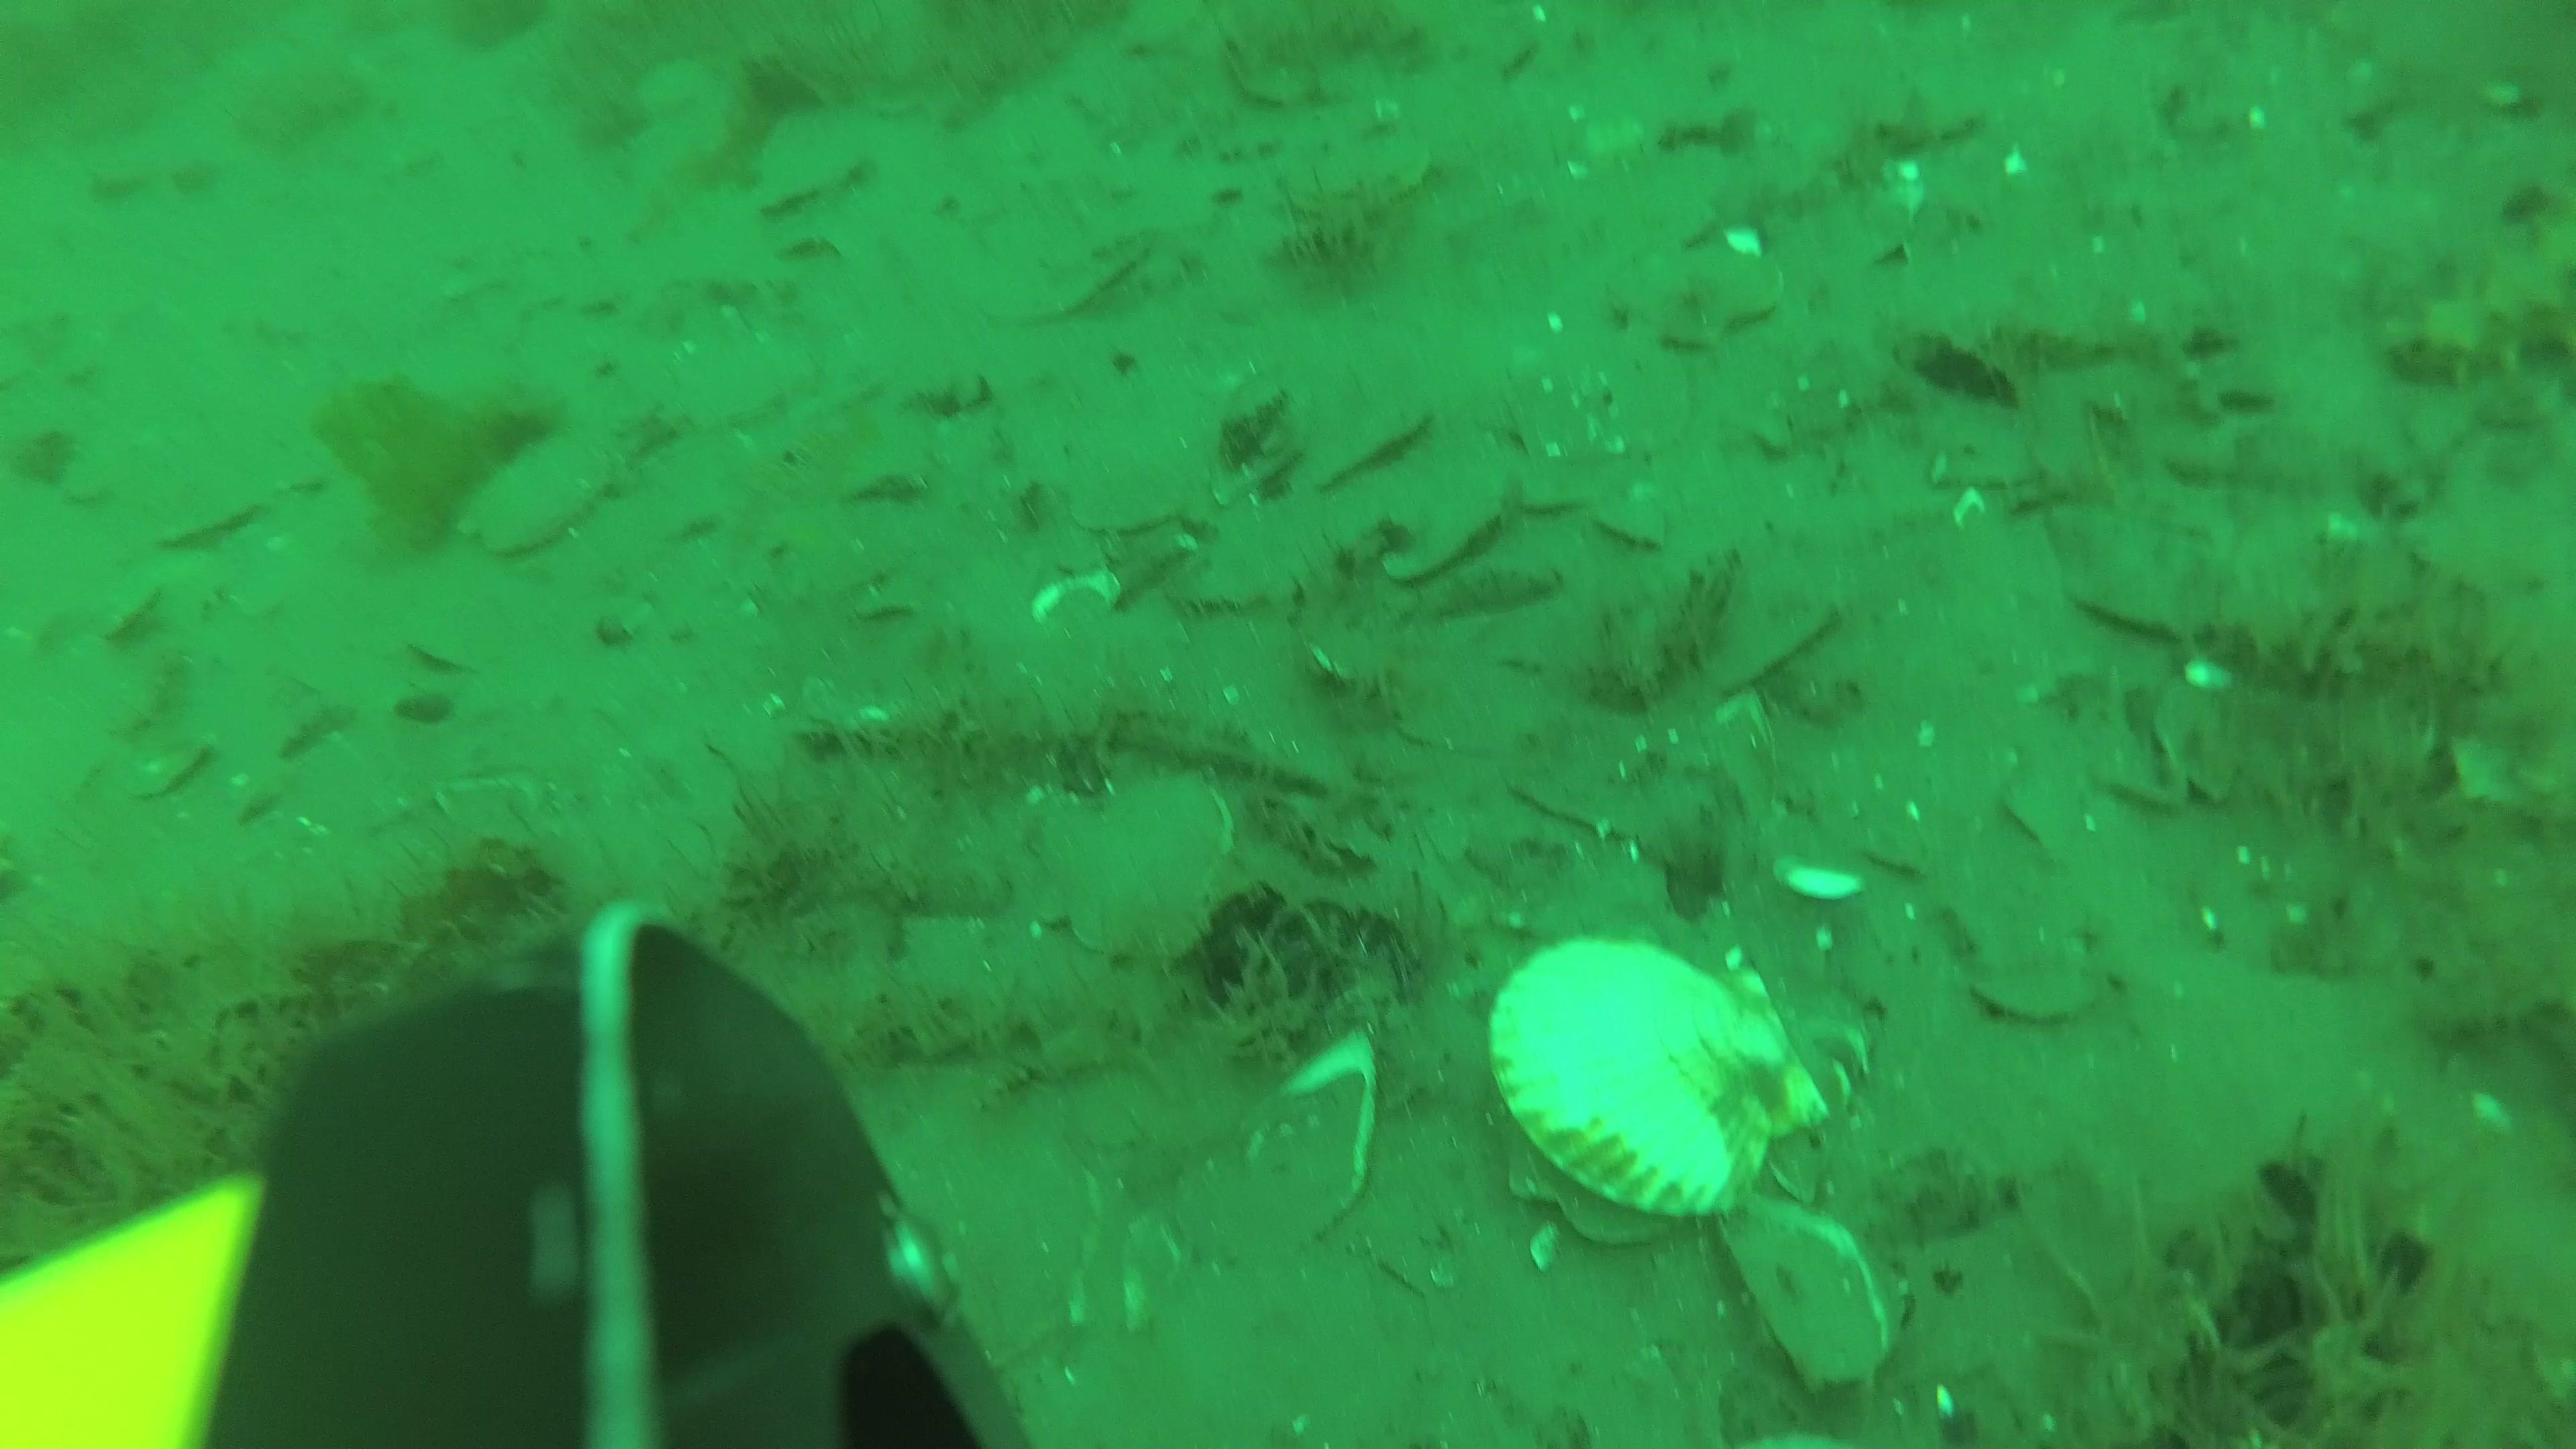holothurian: (2378, 225, 2576, 402)
scallop: (1493, 932, 1829, 1242), (1033, 771, 1233, 964), (1491, 327, 1693, 469), (1599, 241, 1796, 357), (460, 433, 633, 564), (1357, 464, 1500, 571), (1286, 393, 1435, 494), (1069, 449, 1196, 538), (1971, 950, 2109, 1030), (1320, 127, 1438, 218), (1578, 488, 1677, 552), (1511, 460, 1591, 520), (639, 62, 717, 122)
